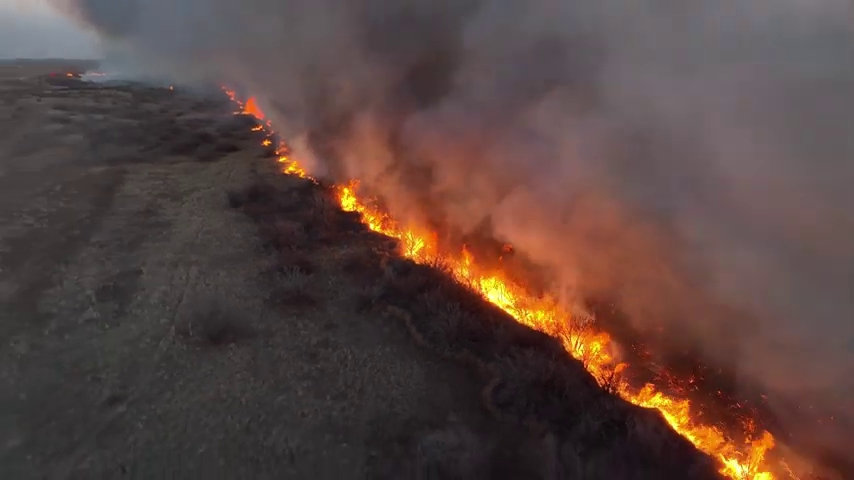forest_fire: (334, 180, 776, 479), (224, 89, 270, 144), (274, 141, 312, 179)
